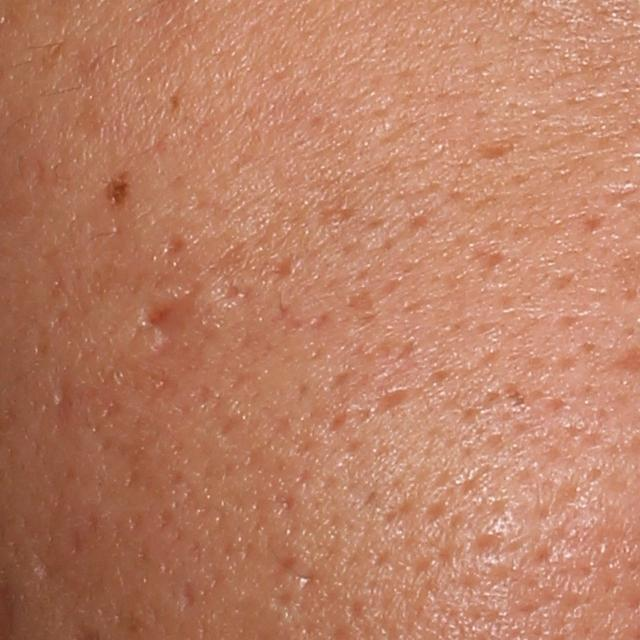atrophic_scar: (143, 283, 204, 332), (27, 530, 68, 591), (365, 383, 418, 424), (469, 137, 520, 166), (470, 246, 508, 274), (158, 230, 188, 264), (174, 583, 202, 610)
nevus: (104, 172, 132, 214)
